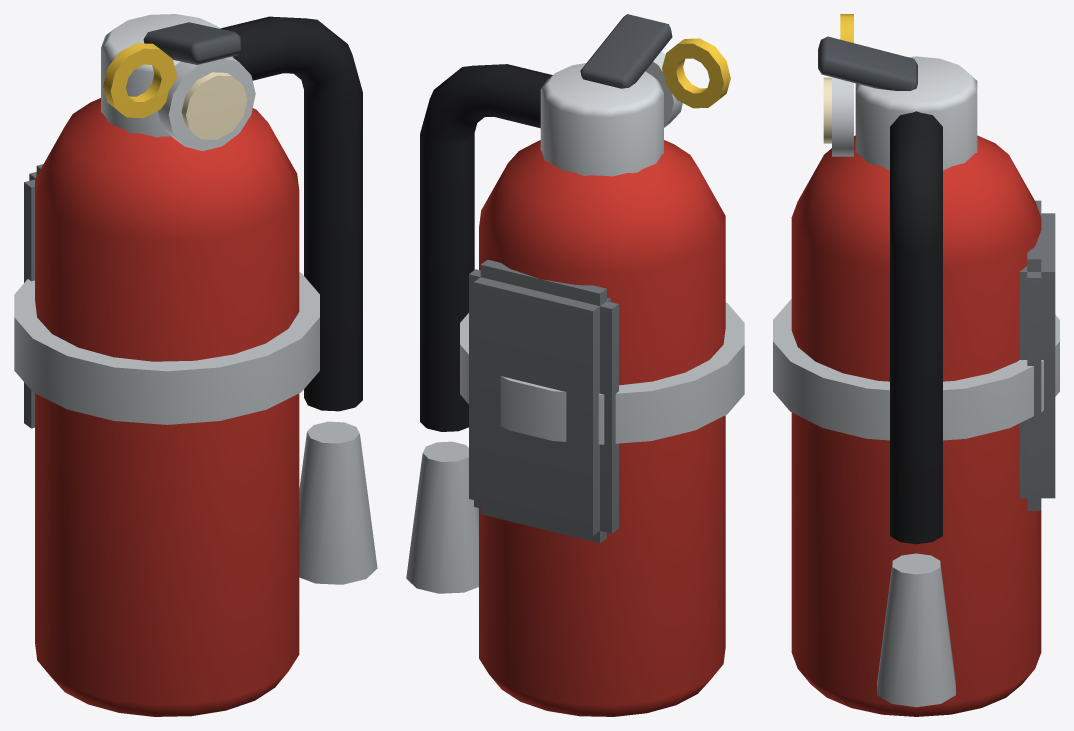
The model's file is SM_Extinguisher_ClassK_01.glb.
3 renders of one model, left to right at view 1: azimuth 30°, elevation 25°; view 2: azimuth 150°, elevation 25°; view 3: azimuth 270°, elevation 25°, orthographic. The views are drawn at different scales.
Visible parts, largest first — view 1: SM_Extinguisher_ClassK_01; view 2: SM_Extinguisher_ClassK_01; view 3: SM_Extinguisher_ClassK_01.
Boxes of the visible parts, x1,y1,x2,y2 form: SM_Extinguisher_ClassK_01: (14, 14, 377, 716); SM_Extinguisher_ClassK_01: (406, 14, 744, 716); SM_Extinguisher_ClassK_01: (773, 14, 1059, 716).
Size of the model in its own units: 0.265 by 0.4966 by 0.2068.
1 material, 1 textured.
